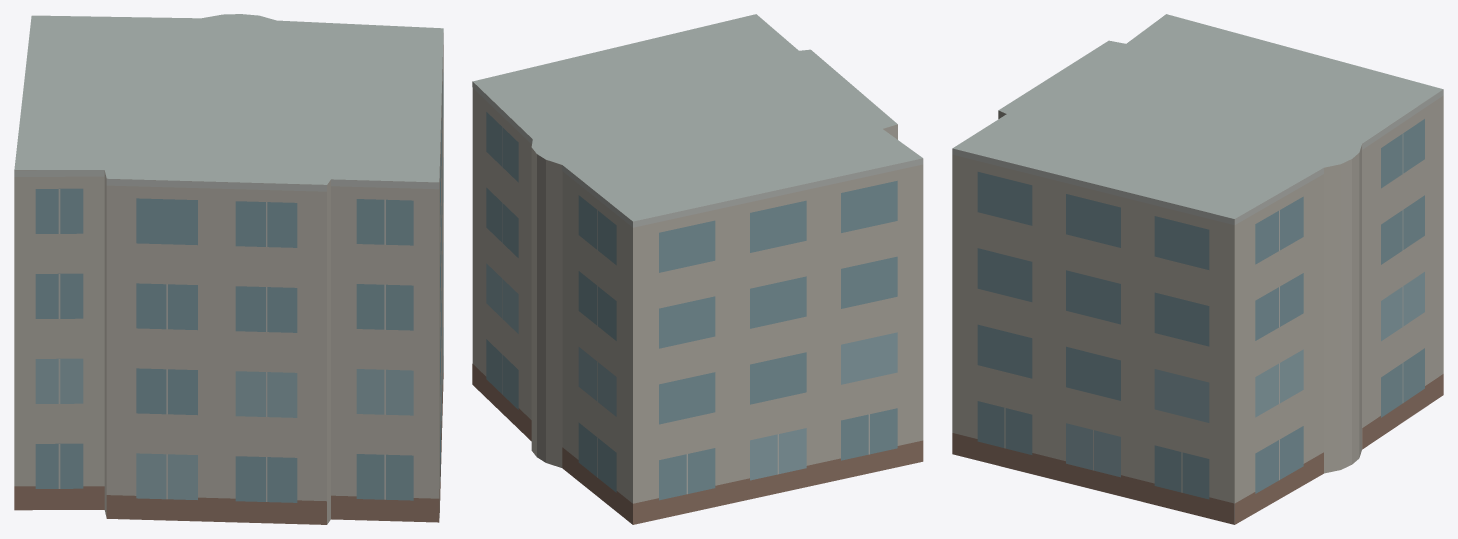
The model's file is survey-upis-32725016.glb.
The picture shows the model from 3 angles, left to right: view 1: azimuth 30°, elevation 25°; view 2: azimuth 150°, elevation 25°; view 3: azimuth 270°, elevation 25°; orthographic projection. The views are drawn at different scales.
Parts seen in each view (by area): view 1: survey-upis-32725016.tmp; view 2: survey-upis-32725016.tmp; view 3: survey-upis-32725016.tmp.
Part boxes in pixels (left/top/right/bottom): survey-upis-32725016.tmp: left=14, top=14, right=443, bottom=524; survey-upis-32725016.tmp: left=472, top=14, right=923, bottom=524; survey-upis-32725016.tmp: left=952, top=14, right=1443, bottom=524.
Bounding box in the file's own units: 17.41 × 12.1 × 17.62.
